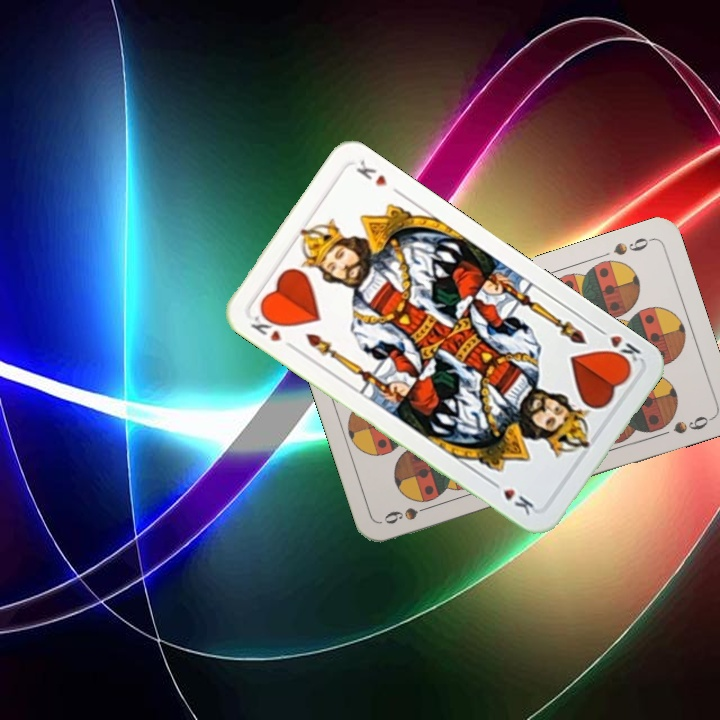HK: (592, 322, 644, 371), (246, 307, 286, 345)
S9: (379, 500, 438, 527), (609, 233, 655, 258)
